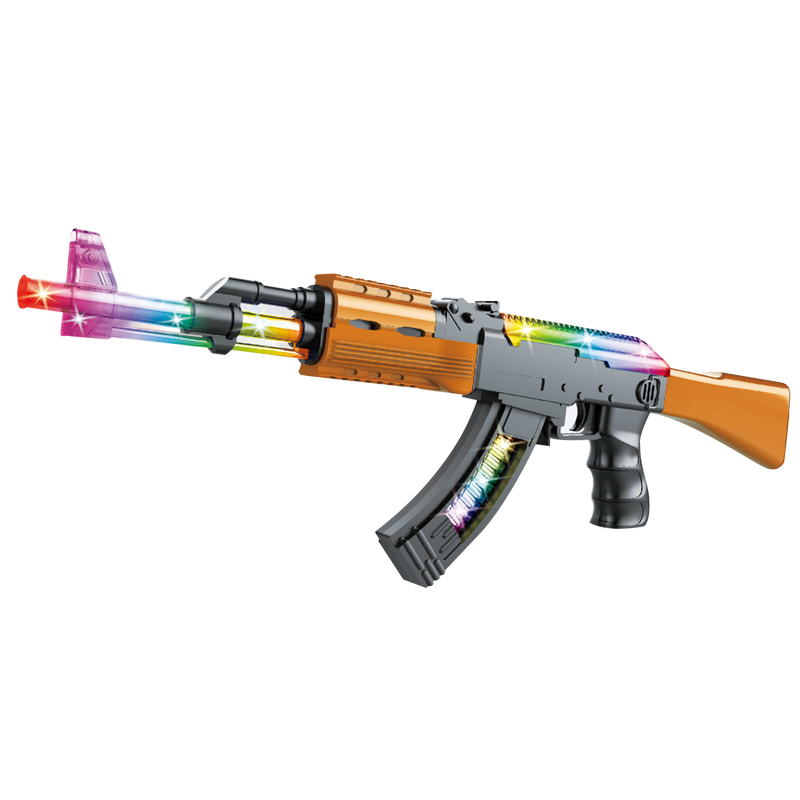Arma Falsa: (16, 221, 800, 583)
